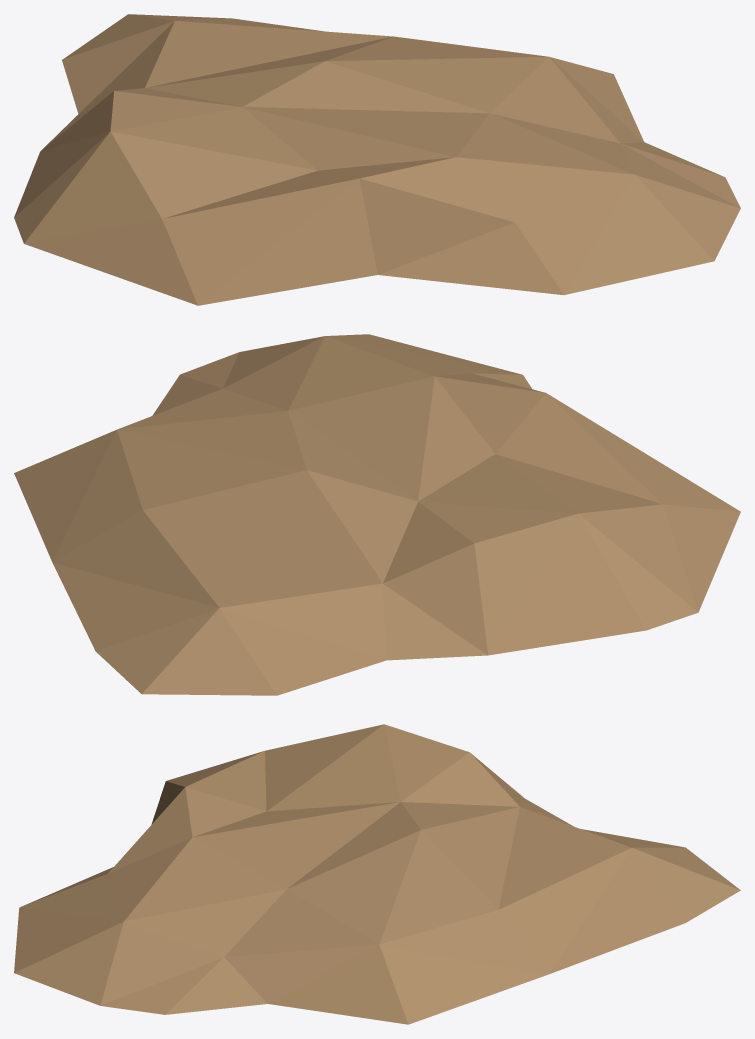
File: SM_Prop_Candle_Blob_02.fbx
3 renders of one model, top to bottom at view 1: azimuth 30°, elevation 25°; view 2: azimuth 150°, elevation 25°; view 3: azimuth 270°, elevation 25°, orthographic. The views are drawn at different scales.
Visible parts, largest first — view 1: SM_Prop_Candle_Blob_02; view 2: SM_Prop_Candle_Blob_02; view 3: SM_Prop_Candle_Blob_02.
Boxes of the visible parts, box(x1,y1,x2,y2) form: SM_Prop_Candle_Blob_02: box(14, 14, 740, 305); SM_Prop_Candle_Blob_02: box(14, 334, 740, 695); SM_Prop_Candle_Blob_02: box(14, 724, 740, 1024).
Bounding box in the file's own units: 30.5 × 3.7 × 34.27.
